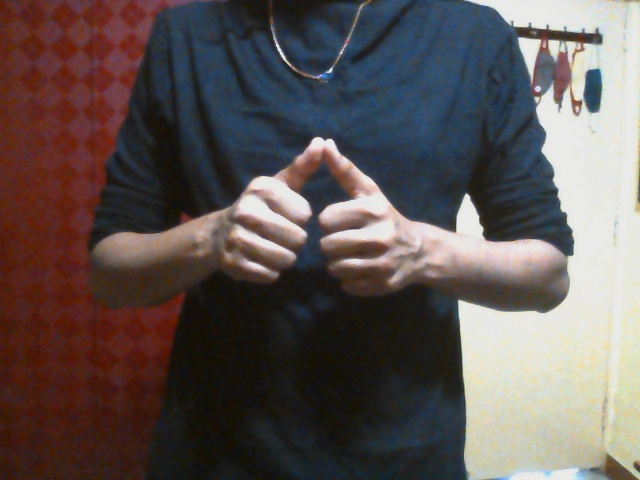A: (214, 137, 411, 299)
